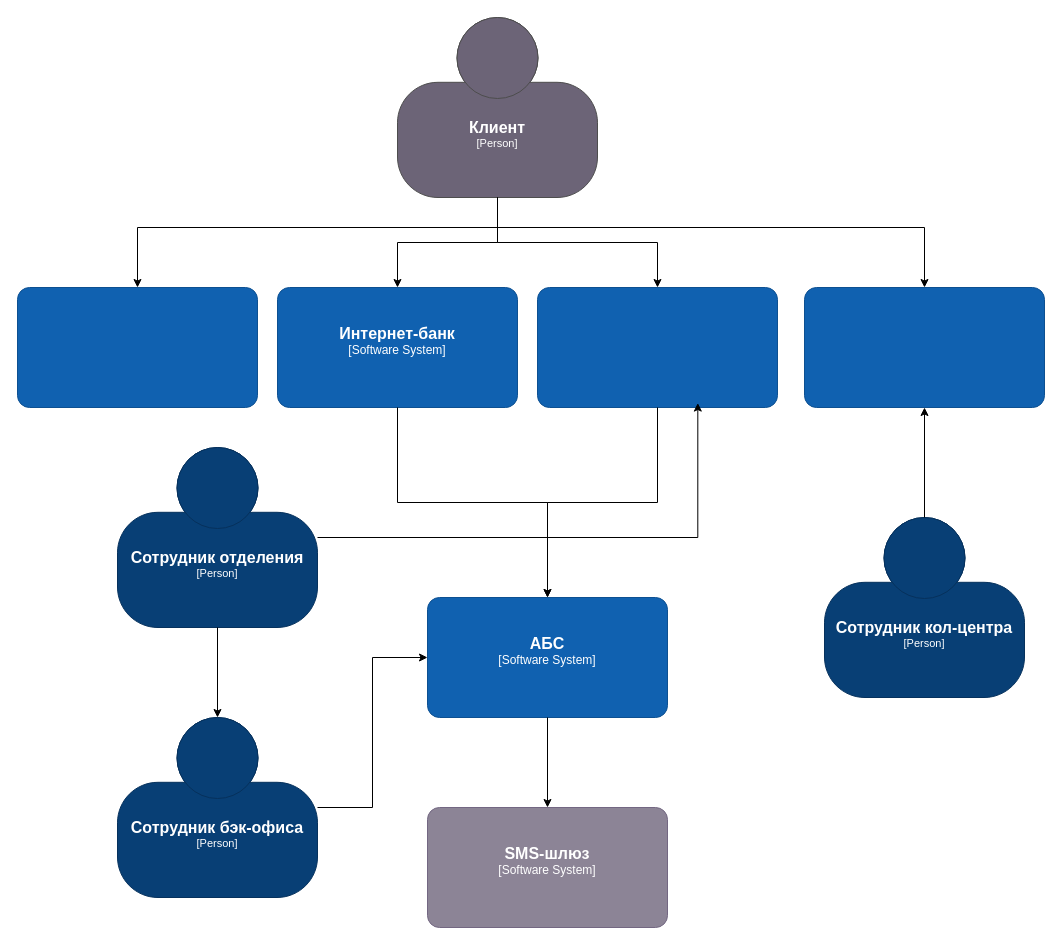
This 1062x945 diagram has some shape labels left out. The shapes that lost their labels are listed below. From the top down, each one's centre as x and y in pixels, then its label:
point (137, 347): Сайт [Software System]
point (657, 347): Отделение банка [-]
point (924, 347): Система кол-центра [Software System]
